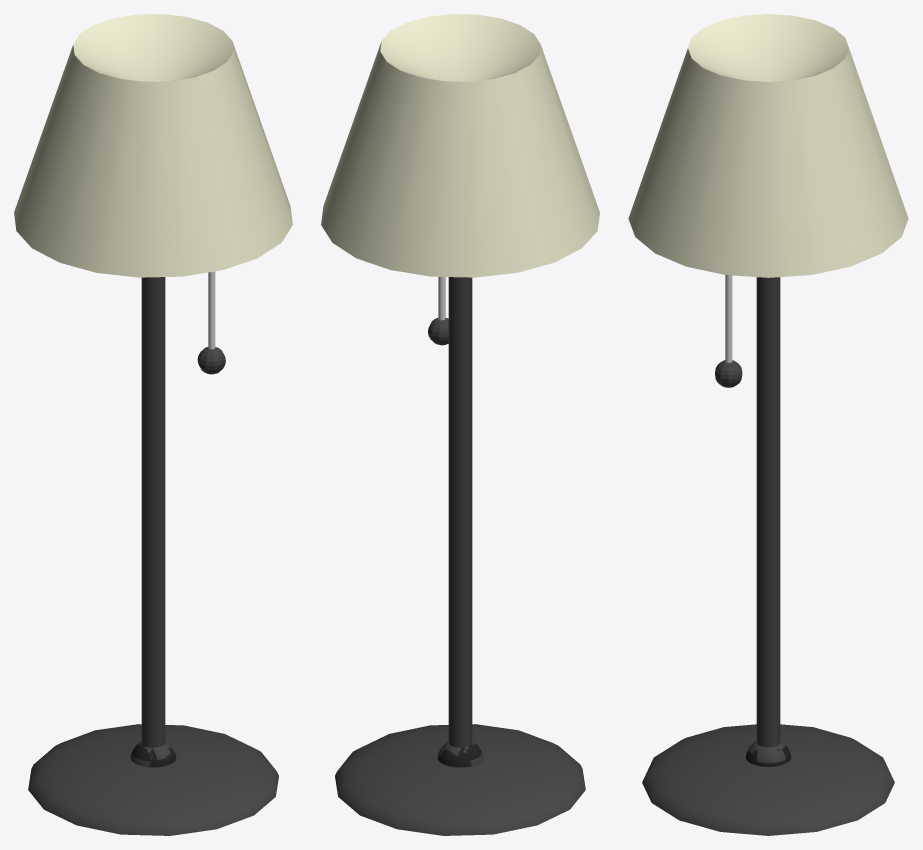
Rendered from Lamp_Adam_Mesh.fbx.
3 renders of one model, left to right at view 1: azimuth 30°, elevation 25°; view 2: azimuth 150°, elevation 25°; view 3: azimuth 270°, elevation 25°, orthographic.
Visible parts, largest first — view 1: Lamp; view 2: Lamp; view 3: Lamp.
Part boxes in pixels (box(x1,y1,x2,y2)): Lamp: box(14, 14, 292, 835); Lamp: box(321, 14, 599, 835); Lamp: box(628, 14, 908, 835).
Size of the model in its own units: 1.83 by 5.29 by 1.83.
